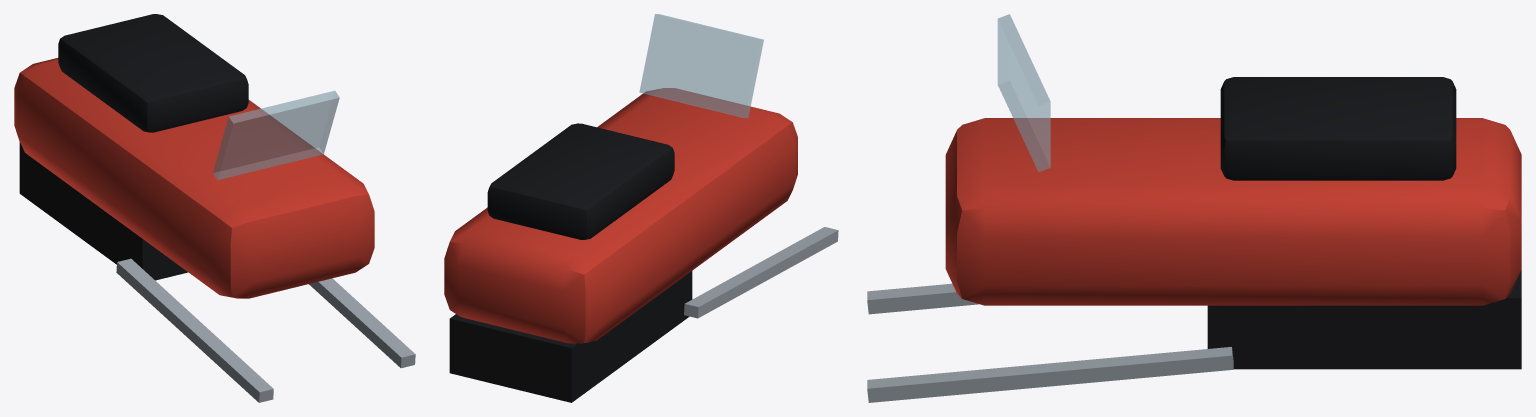
File: snowmobile.glb
The picture shows the model from 3 angles, left to right: view 1: azimuth 30°, elevation 25°; view 2: azimuth 150°, elevation 25°; view 3: azimuth 270°, elevation 25°; orthographic projection. The views are drawn at different scales.
Parts seen in each view (by area): view 1: sled; view 2: sled; view 3: sled.
Boxes of the visible parts, <box> form: sled: <box>14,14,415,402</box>; sled: <box>444,14,838,402</box>; sled: <box>867,14,1521,402</box>.
Size of the model in its own units: 0.9 by 1.29 by 2.5.
